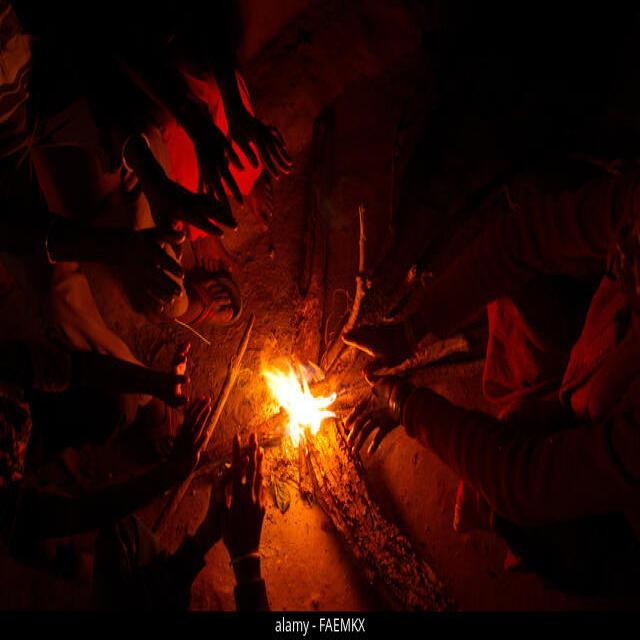fire: (260, 361, 337, 448)
